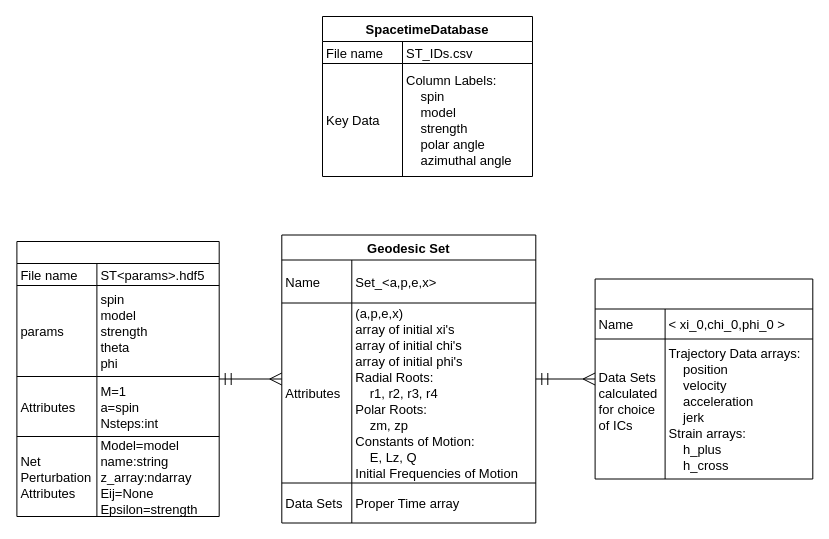
Image size: 829x539. Some labels were removed from this diagram. Each missing label, with the box of its shape:
Spacetime: (16, 240, 219, 516)
Trajectory/Geodesic: (594, 278, 813, 479)
